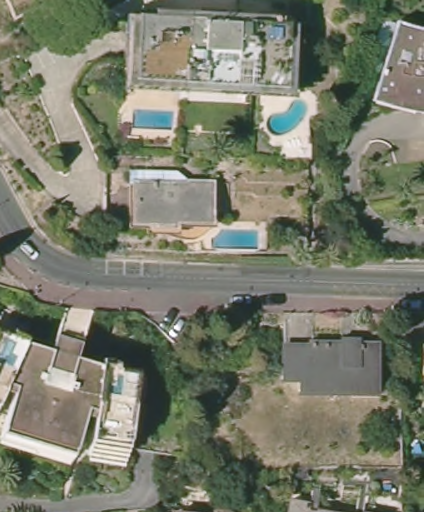pool: (263, 95, 307, 138), (207, 226, 267, 253), (127, 105, 179, 132)
